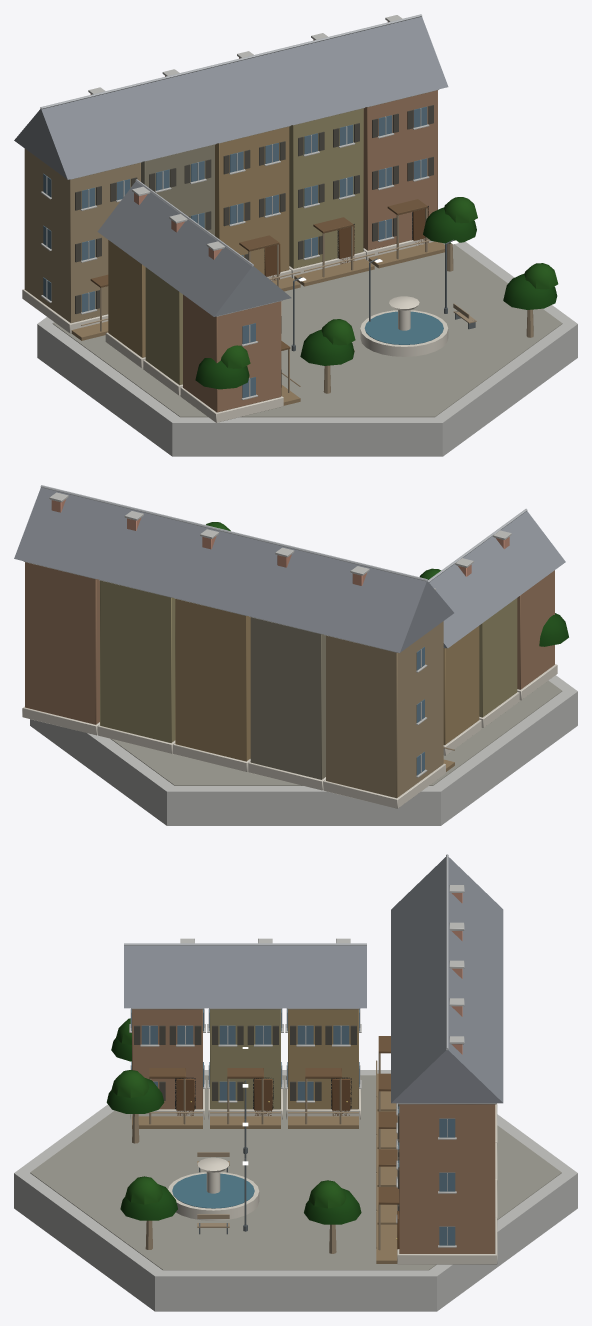
File: residential_us.glb
3 renders of one model, top to bottom at view 1: azimuth 30°, elevation 25°; view 2: azimuth 150°, elevation 25°; view 3: azimuth 270°, elevation 25°, orthographic. The views are drawn at different scales.
Visible parts, largest first — view 1: wood, roof_slate, pavers, wall_concrete, glass, leaf, stone, metal, steel_dark; view 2: wood, roof_slate, wall_concrete, stone, pavers, metal, leaf, brick, glass; view 3: wood, roof_slate, pavers, wall_concrete, leaf, glass, stone, metal.
Part boxes in pixels (x1,y1,x2,y2): wood: (24, 90, 533, 412); roof_slate: (14, 16, 448, 316); pavers: (52, 243, 562, 417); wall_concrete: (37, 15, 577, 456); glass: (43, 106, 443, 397); leaf: (195, 197, 558, 389); stone: (22, 238, 448, 422); metal: (40, 14, 422, 266); steel_dark: (291, 239, 475, 357); wood: (25, 562, 554, 798); roof_slate: (14, 487, 565, 652); wall_concrete: (23, 492, 577, 825); stone: (22, 664, 557, 808); pavers: (111, 680, 562, 785); metal: (40, 485, 527, 582); leaf: (206, 522, 568, 646); brick: (51, 499, 509, 585); glass: (416, 647, 424, 775); wood: (132, 1009, 495, 1263); roof_slate: (124, 857, 503, 1103); pavers: (30, 1075, 561, 1270); wall_concrete: (14, 885, 577, 1311); leaf: (106, 1018, 361, 1224); glass: (131, 1009, 455, 1245); stone: (130, 1076, 497, 1264); metal: (124, 854, 448, 1050).
Size of the model in its own units: 21.3 by 12.29 by 24.6.
